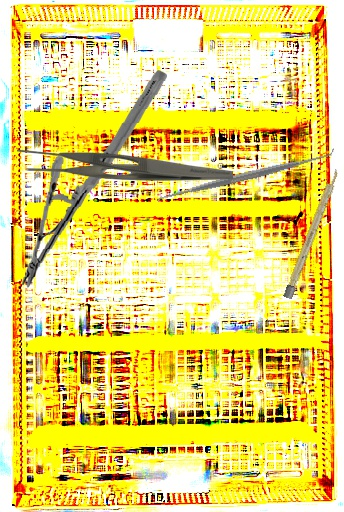Dressing Forceps: (17, 146, 233, 181)
Needle Holder: (19, 61, 168, 297)
Scalpel Handle: (283, 167, 341, 300)
Spatula Surgical: (154, 144, 338, 208)
